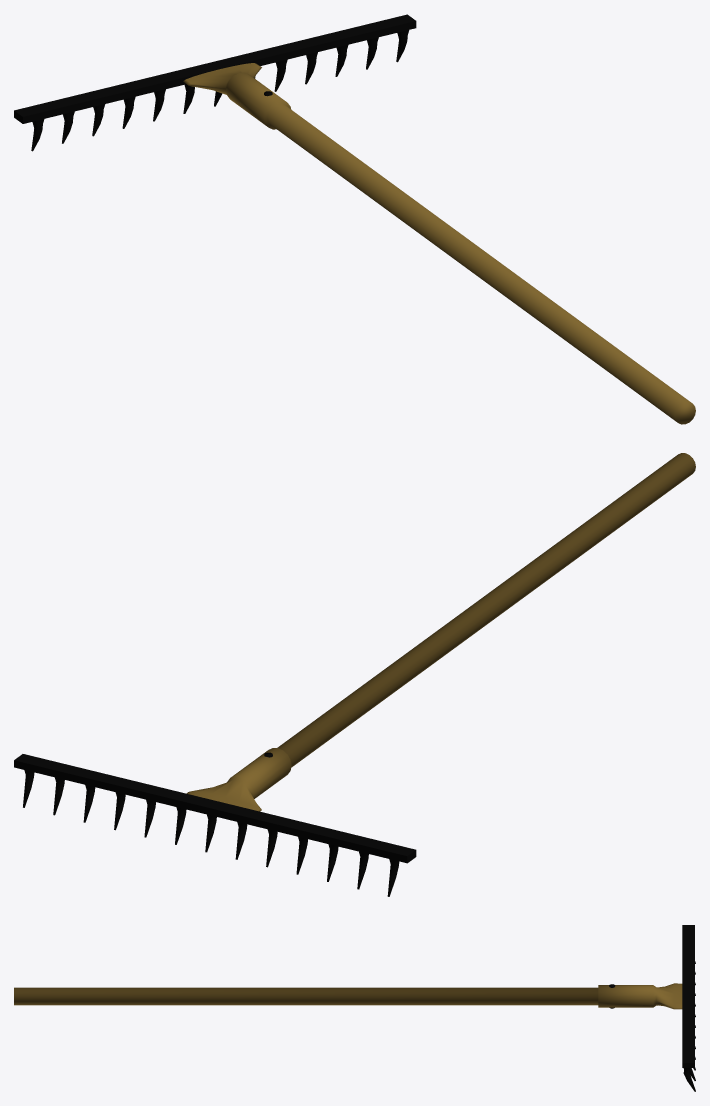
File: tool2 - 副本.fbx
3 renders of one model, top to bottom at view 1: azimuth 30°, elevation 25°; view 2: azimuth 150°, elevation 25°; view 3: azimuth 270°, elevation 25°, orthographic. The views are drawn at different scales.
Parts seen in each view (by area): view 1: Rastelo_02_Circle; view 2: Rastelo_02_Circle; view 3: Rastelo_02_Circle.
Part boxes in pixels (x1=…): Rastelo_02_Circle: x1=14, y1=14, x2=695, y2=424; Rastelo_02_Circle: x1=14, y1=453, x2=695, y2=896; Rastelo_02_Circle: x1=14, y1=925, x2=695, y2=1091.
Bounding box in the file's own units: 1115 × 154 × 2334.
